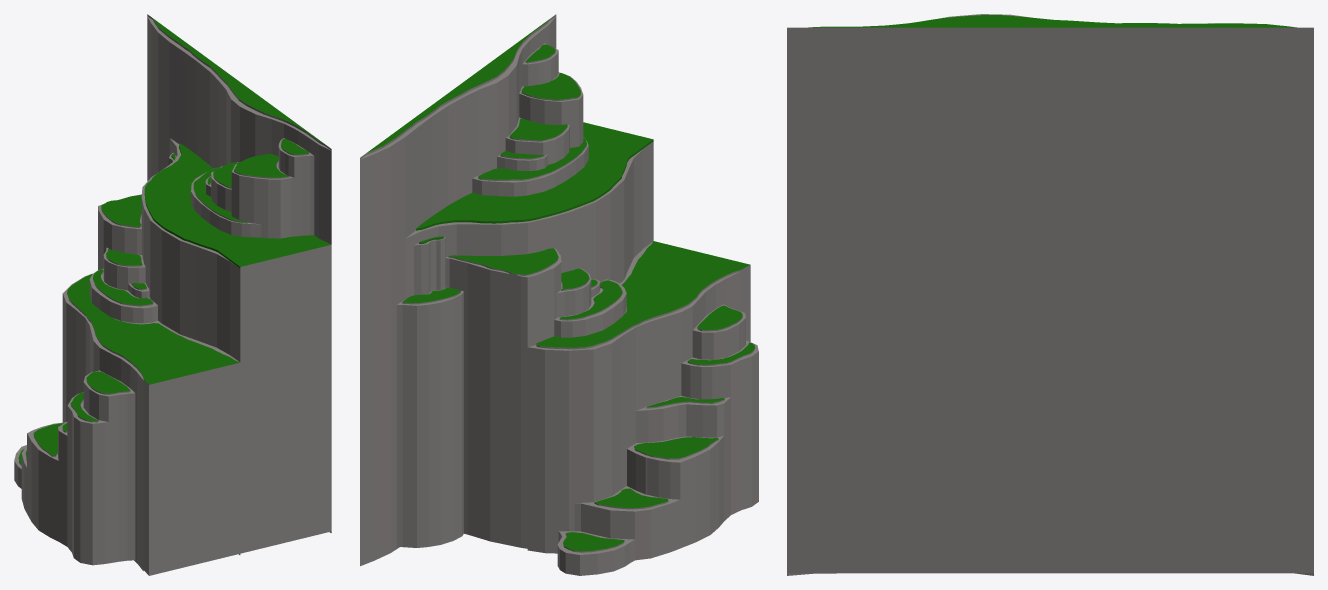
File: MTSCorner.fbx
3 renders of one model, left to right at view 1: azimuth 30°, elevation 25°; view 2: azimuth 150°, elevation 25°; view 3: azimuth 270°, elevation 25°, orthographic. The views are drawn at different scales.
Parts seen in each view (by area): view 1: Plane.014; view 2: Plane.014; view 3: Plane.014.
Boxes of the visible parts, box(x1,y1,x2,y2) form: Plane.014: box(14, 14, 331, 575); Plane.014: box(360, 14, 758, 575); Plane.014: box(787, 14, 1313, 575).
Size of the model in its own units: 60.49 by 101 by 87.53.
